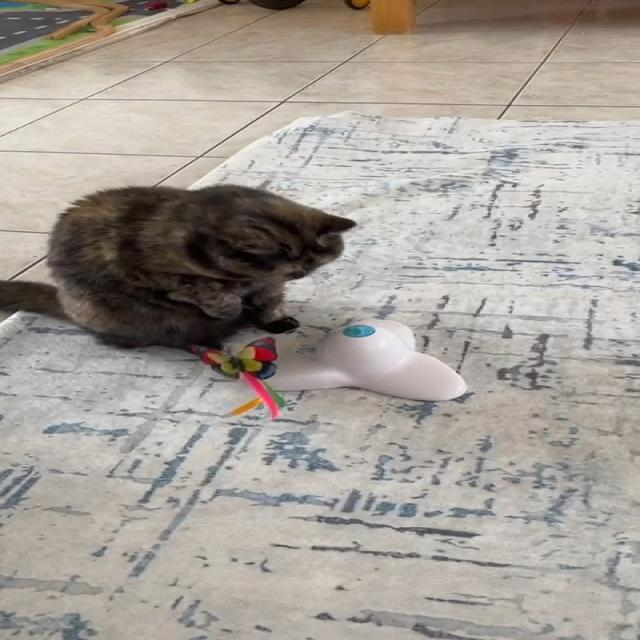authorized: (0, 183, 356, 351)
